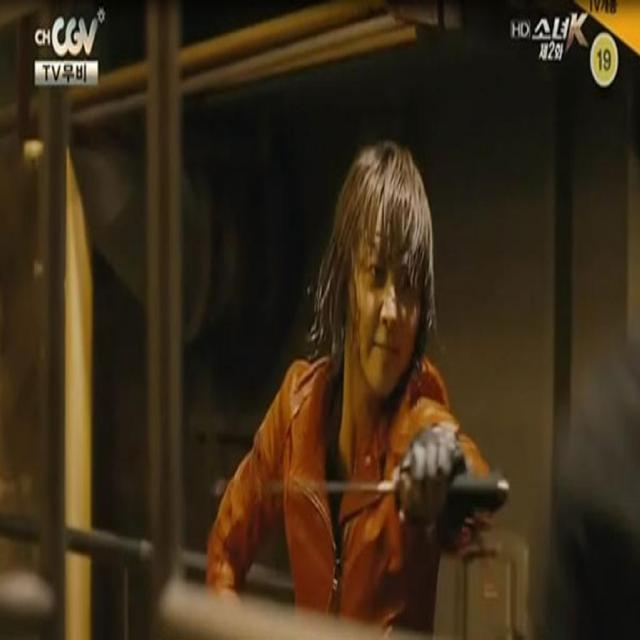nomask: (352, 226, 422, 391)
